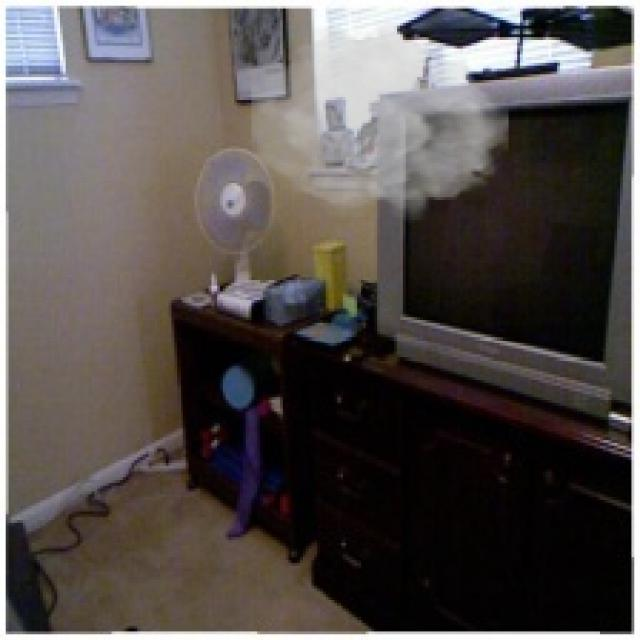smoke: (252, 20, 508, 223)
